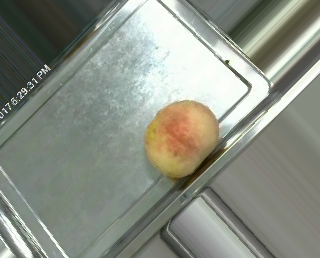Peach: (144, 100, 219, 179)
